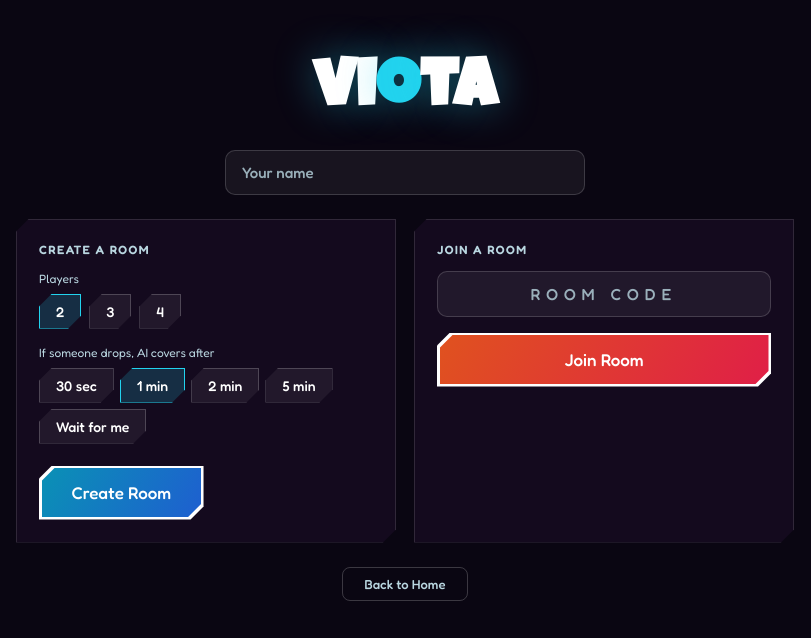
a join failure surfaces the error message
Type "Bob" into the field with placeholder "Your name" at (405, 172), box [225,150,585,194]
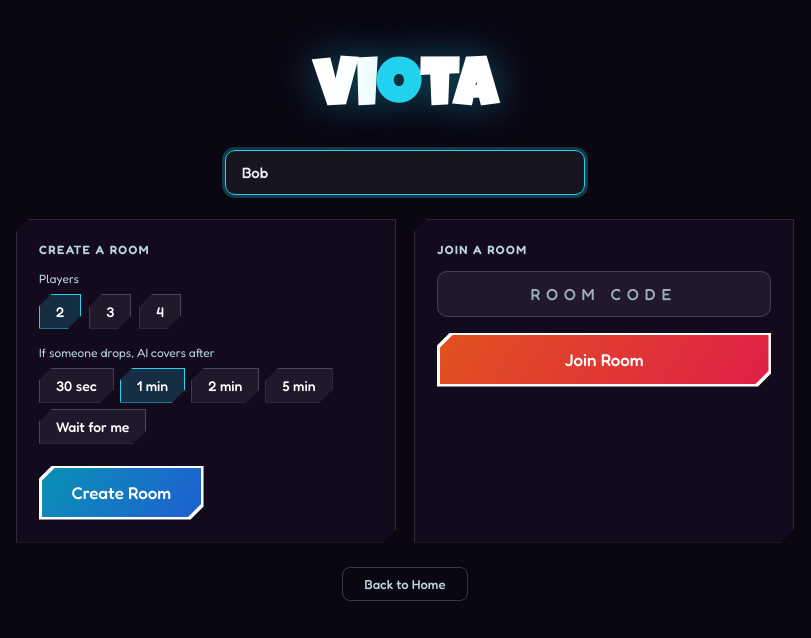
Type "ZZZZZZ" into the field with placeholder "Room code" at (604, 294), box [437,270,771,316]
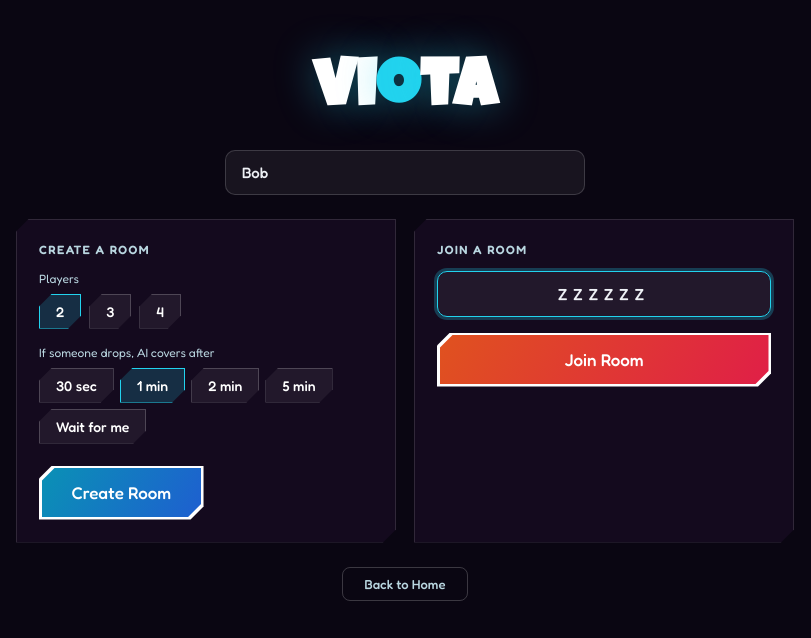
Click the button "Join Room" at (604, 360), box [437,332,771,386]
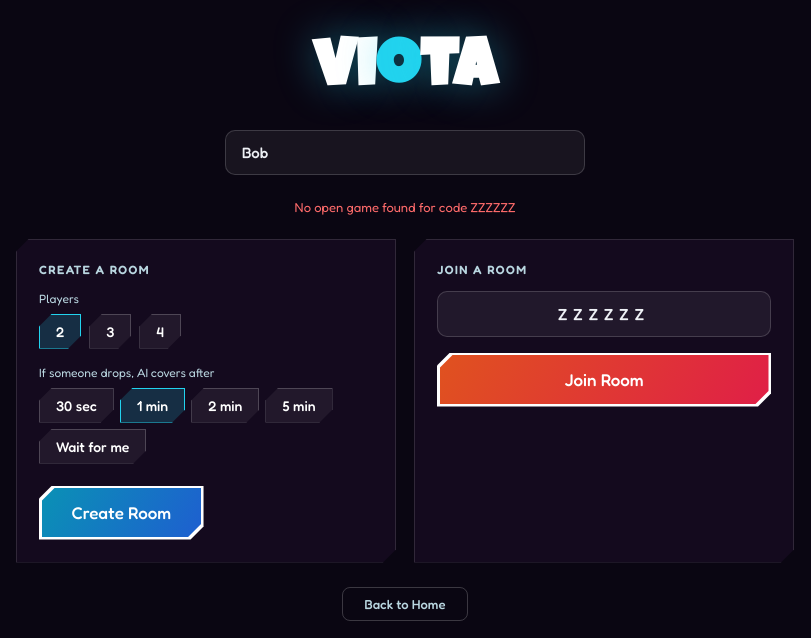
Result: the text "No open game found for code ZZZZZZ" is shown at [294,198,515,214]
